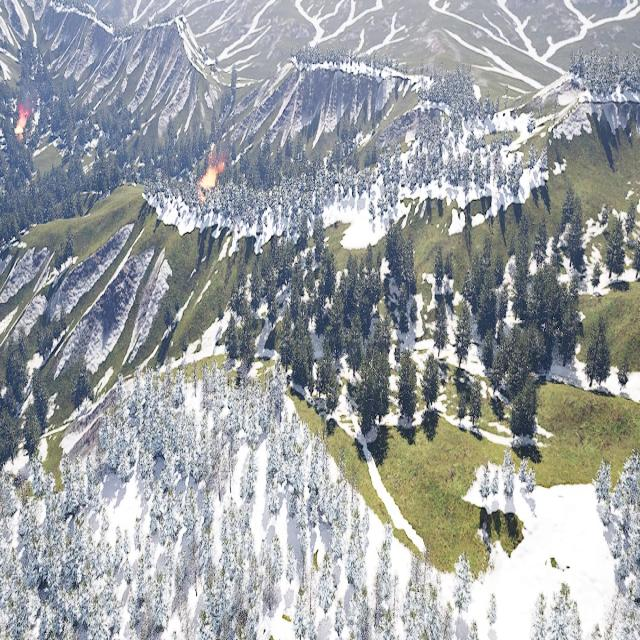fire: (202, 169, 218, 189), (14, 113, 26, 136), (472, 85, 480, 102)
smoke: (209, 144, 229, 167), (16, 95, 37, 116)
